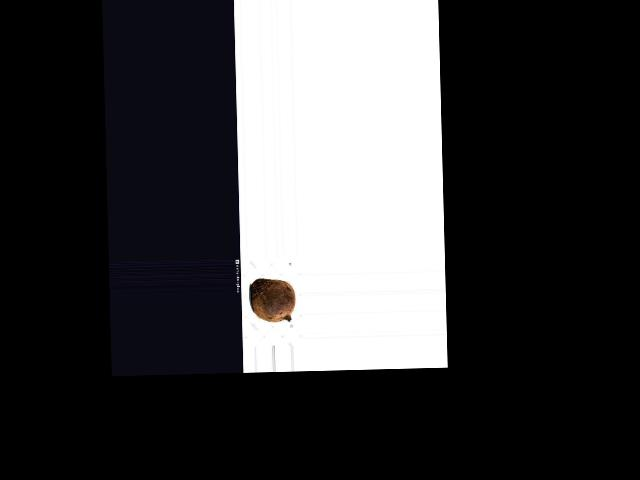beet: (249, 278, 295, 323)
